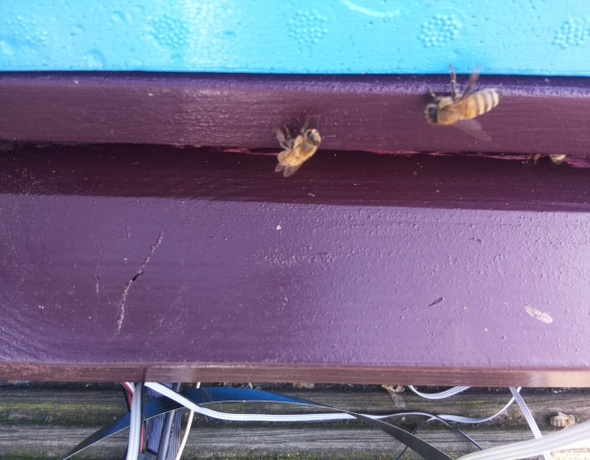no_pollen: (422, 79, 502, 129), (274, 122, 323, 177)
